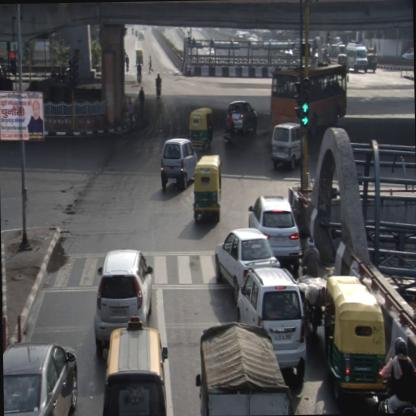bus: (270, 62, 347, 130), (345, 37, 367, 75)
car: (235, 268, 306, 385), (100, 321, 171, 415), (93, 249, 154, 345), (2, 340, 79, 415), (214, 227, 280, 294), (248, 193, 301, 273), (158, 136, 197, 192), (270, 122, 303, 169), (228, 100, 258, 134)
motorcycle: (377, 334, 415, 413), (300, 236, 322, 336), (223, 113, 236, 148), (154, 70, 162, 100), (136, 62, 143, 86)
truck: (192, 324, 294, 416)
